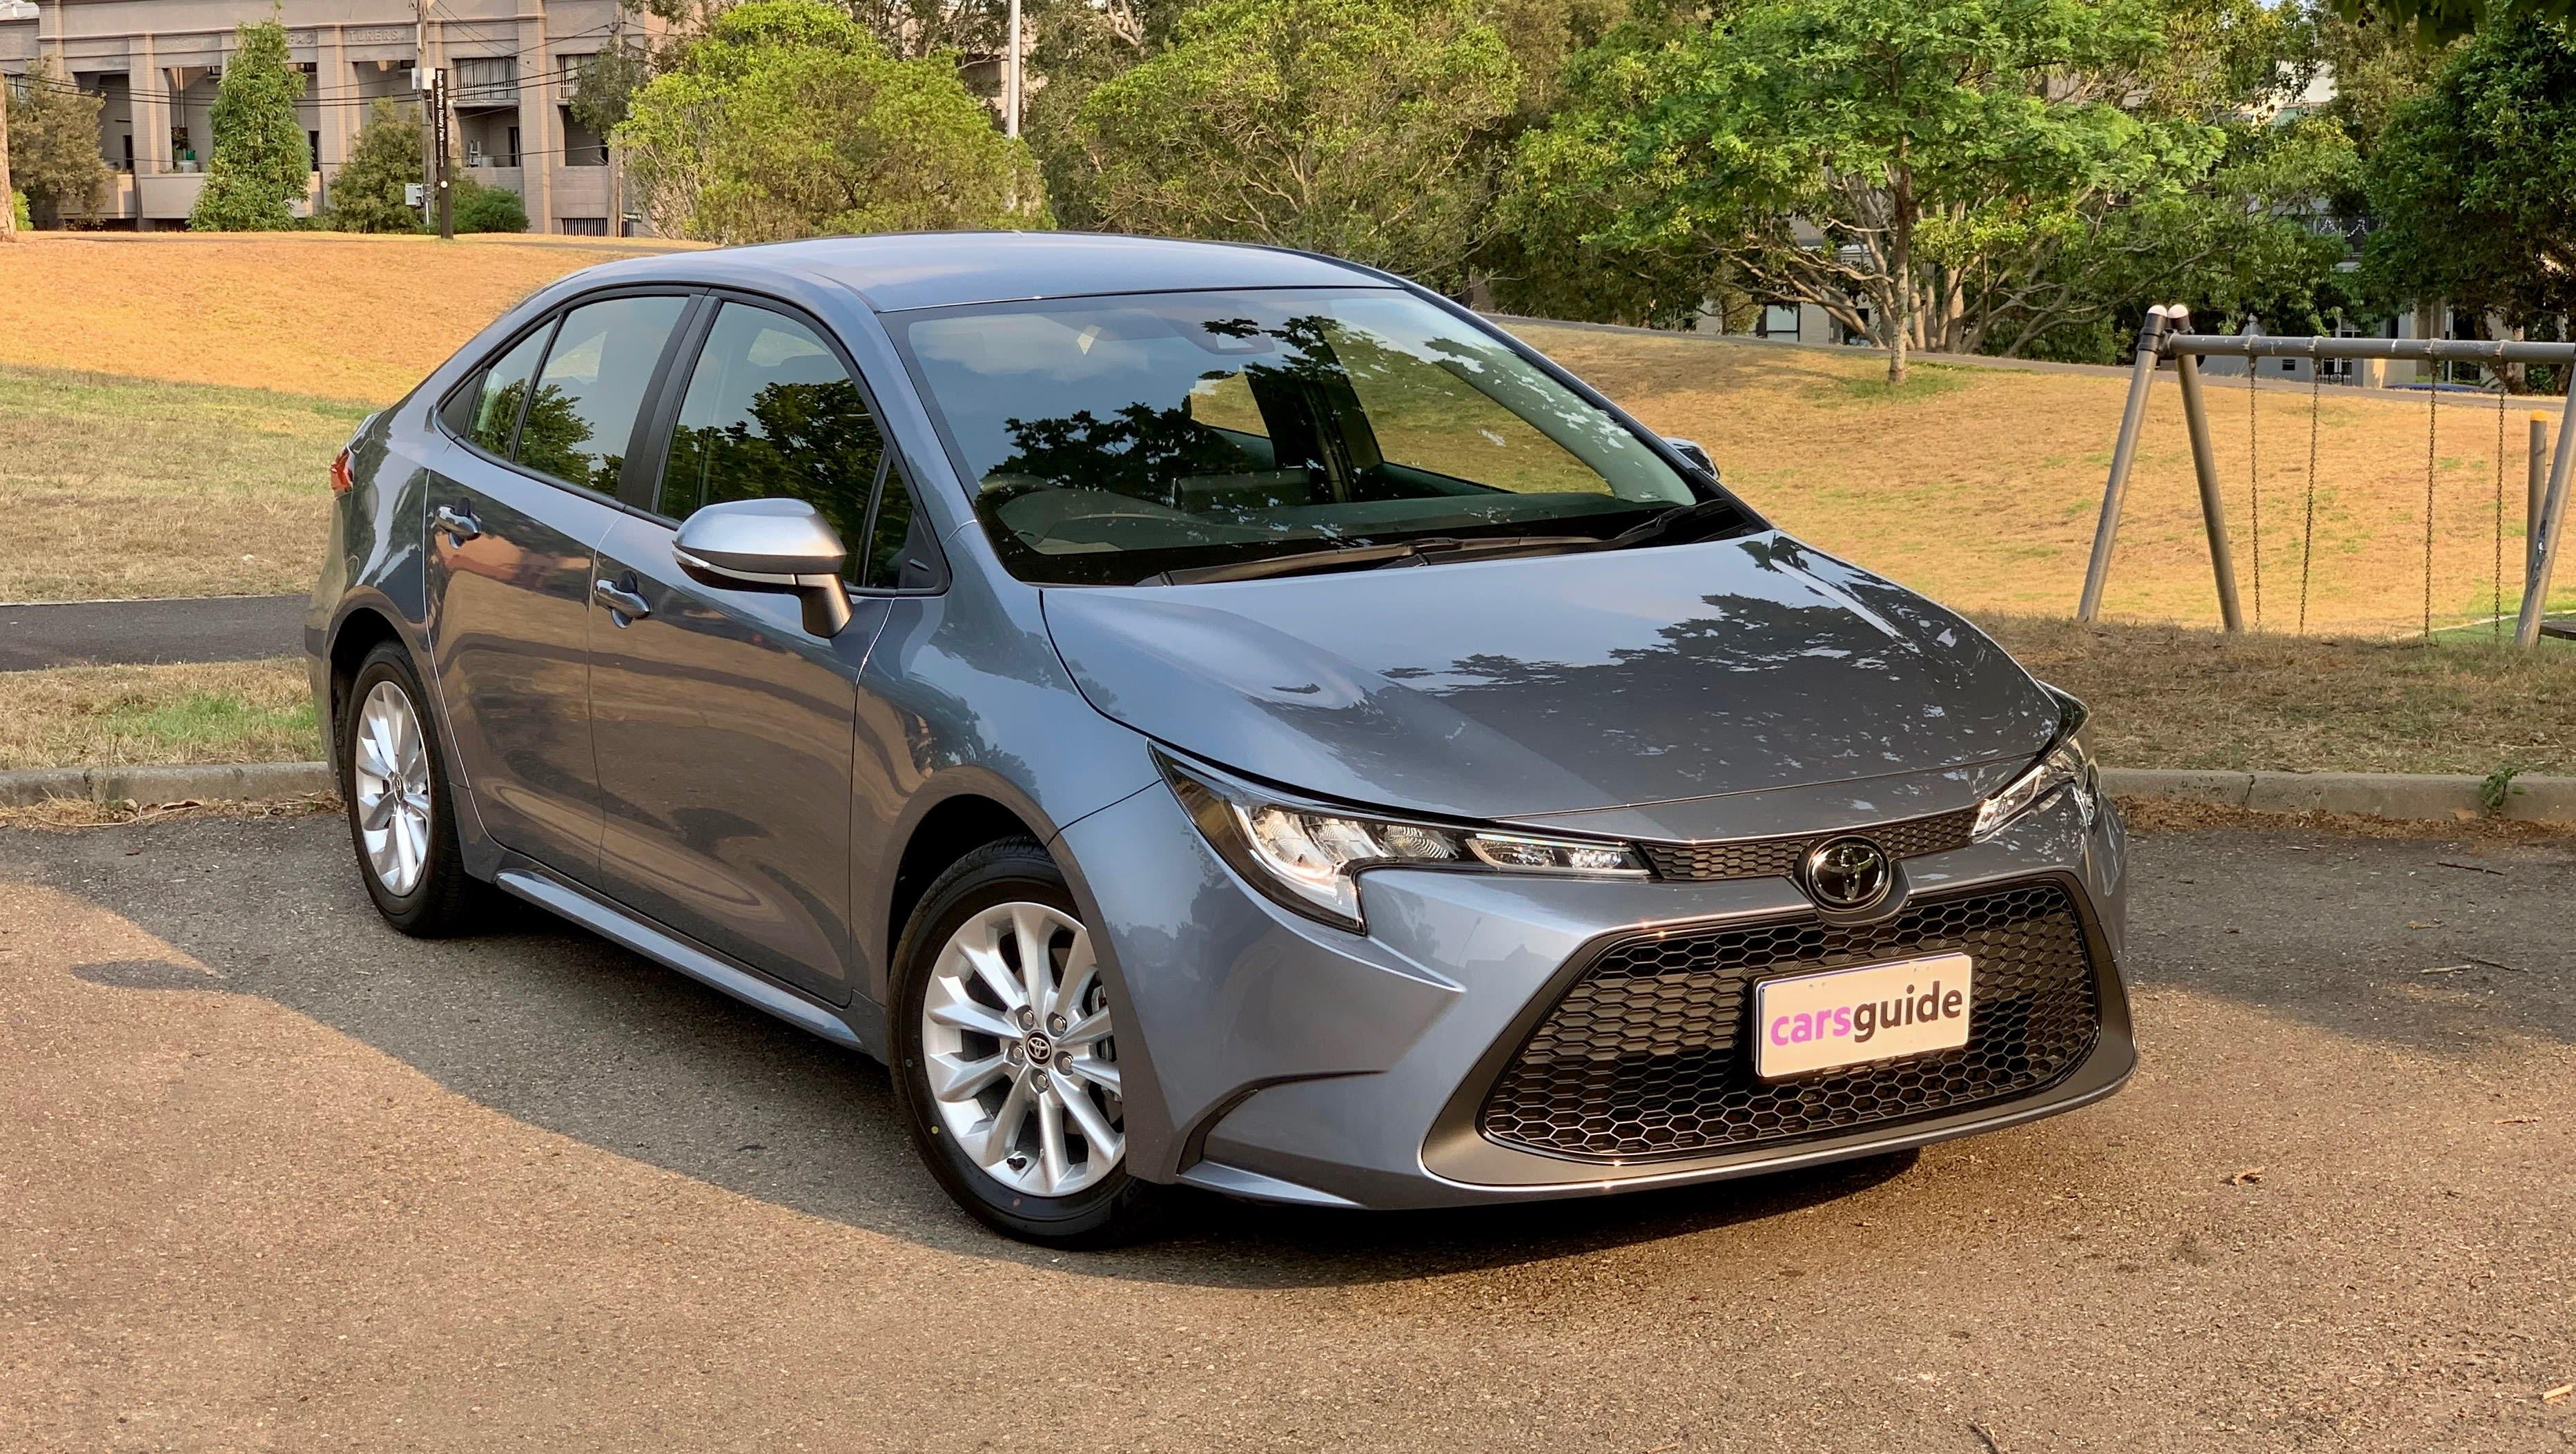car: (304, 237, 2187, 1261)
